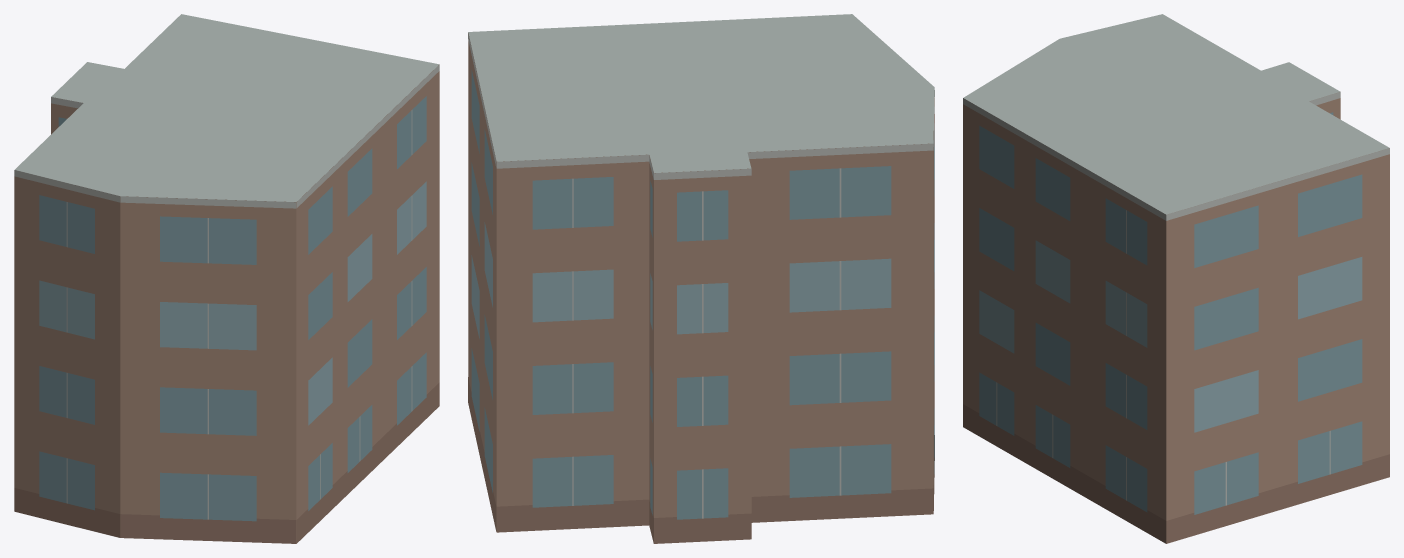
The model's file is survey-upis-32754909.glb.
3 renders of one model, left to right at view 1: azimuth 30°, elevation 25°; view 2: azimuth 150°, elevation 25°; view 3: azimuth 270°, elevation 25°, orthographic. The views are drawn at different scales.
Visible parts, largest first — view 1: survey-upis-32754909.tmp; view 2: survey-upis-32754909.tmp; view 3: survey-upis-32754909.tmp.
Boxes of the visible parts, box(x1,y1,x2,y2) form: survey-upis-32754909.tmp: box(14, 14, 439, 543); survey-upis-32754909.tmp: box(468, 14, 934, 543); survey-upis-32754909.tmp: box(963, 14, 1389, 543).
Bounding box in the file's own units: 16.88 × 12.9 × 15.17.
